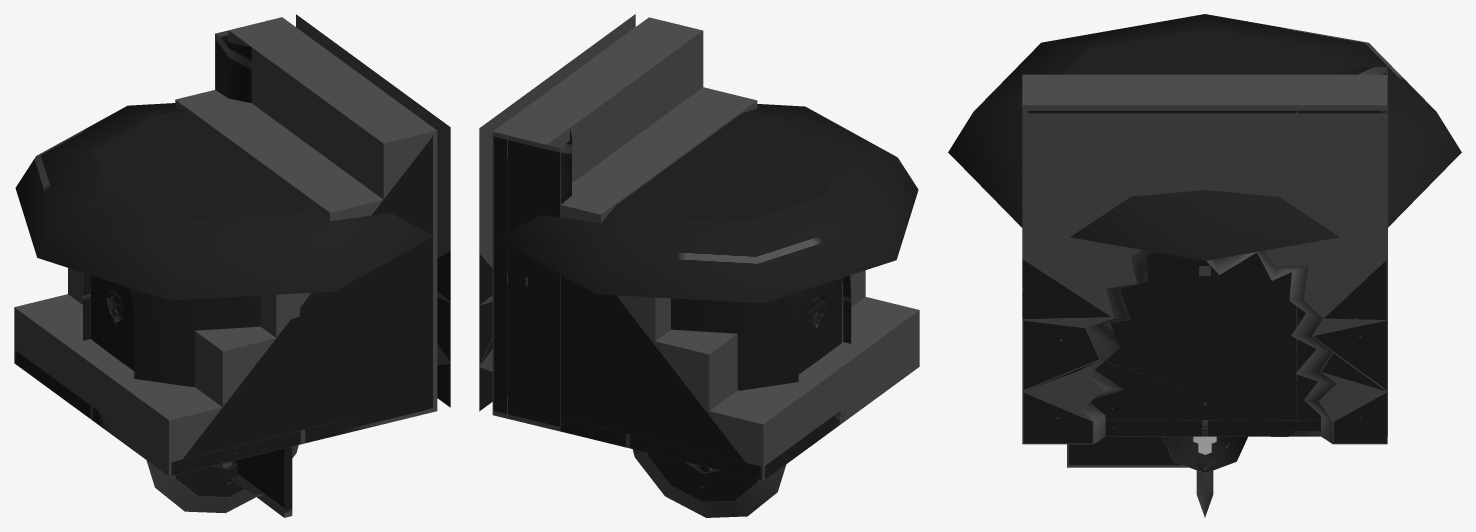
The model's file is Test_Map_Geo.glb.
3 views of the same model, side by side, from view 1: azimuth 30°, elevation 25°; view 2: azimuth 150°, elevation 25°; view 3: azimuth 270°, elevation 25° (orthographic). The views are drawn at different scales.
Parts seen in each view (by area): view 1: Test_Stairs, Test_House, Test_BrokenWall, Test_Fall, Test_Guilotine, Test_DoorIntro, Test_Corner, Test_Floor; view 2: Test_Stairs, Test_House, Test_Corner, Test_BrokenWall, Test_Guilotine, Test_Fall, Test_Floor; view 3: Test_BrokenWall, Test_Stairs, Test_House, Test_Fall, Test_DoorIntro, Test_Floor, Test_FireTrap, Test_Corner, Test_Guilotine.
Boxes of the visible parts, x1,y1,x2,y2 form: Test_Stairs: [14, 17, 437, 476]; Test_House: [15, 103, 434, 386]; Test_BrokenWall: [296, 14, 450, 407]; Test_Fall: [14, 349, 376, 476]; Test_Guilotine: [146, 445, 298, 513]; Test_DoorIntro: [230, 446, 292, 517]; Test_Corner: [215, 17, 281, 102]; Test_Floor: [15, 351, 378, 473]; Test_Stairs: [493, 17, 919, 466]; Test_House: [496, 104, 918, 390]; Test_Corner: [492, 129, 571, 431]; Test_BrokenWall: [479, 14, 635, 411]; Test_Guilotine: [632, 449, 786, 517]; Test_Fall: [560, 410, 842, 480]; Test_Floor: [560, 408, 846, 479]; Test_BrokenWall: [1022, 113, 1387, 444]; Test_Stairs: [1022, 74, 1387, 436]; Test_House: [948, 14, 1461, 260]; Test_Fall: [1105, 420, 1320, 436]; Test_DoorIntro: [1067, 436, 1188, 467]; Test_Floor: [1106, 420, 1320, 436]; Test_FireTrap: [1162, 402, 1247, 473]; Test_Corner: [1296, 66, 1387, 436]; Test_Guilotine: [1196, 470, 1213, 517].
Size of what is drawn, in the model's own units: 2.81 by 2.9 by 2.81.
6 materials, 2 textured.
